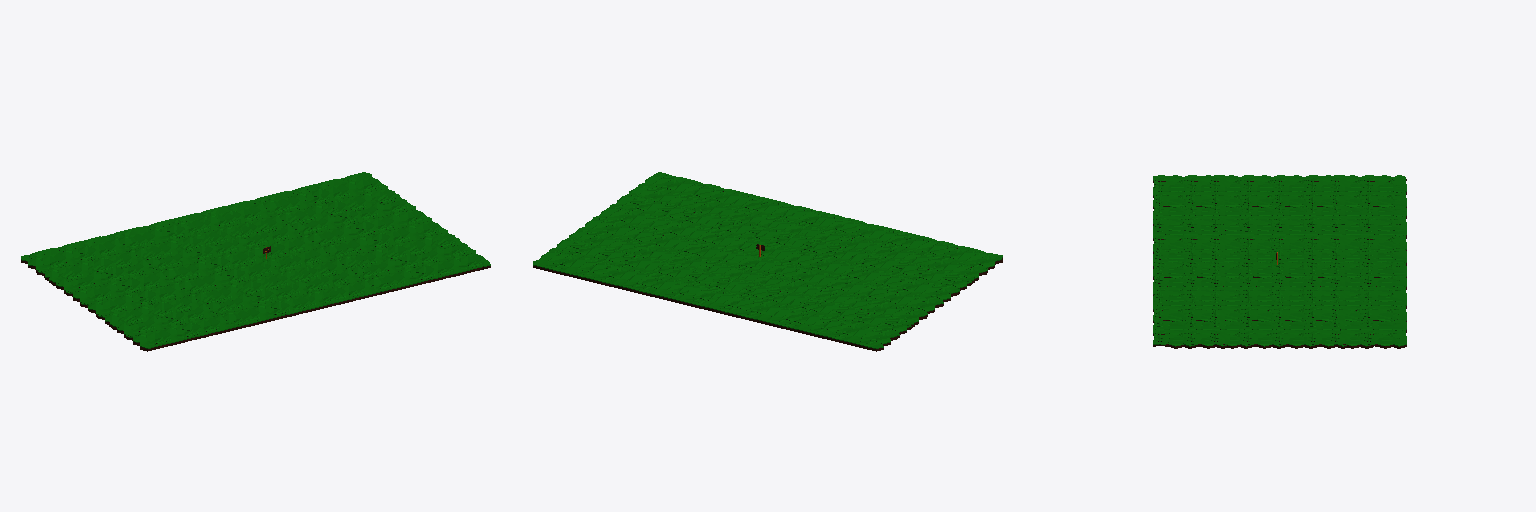
3 renders of one model, left to right at view 1: azimuth 30°, elevation 25°; view 2: azimuth 150°, elevation 25°; view 3: azimuth 270°, elevation 25°, orthographic.
Parts seen in each view (by area): view 1: plateforme.002; view 2: plateforme.002; view 3: plateforme.002.
Part boxes in pixels (left/top/right/bottom): plateforme.002: left=21, top=172, right=490, bottom=351; plateforme.002: left=533, top=172, right=1002, bottom=351; plateforme.002: left=1153, top=175, right=1406, bottom=348.
Bounding box in the file's own units: 41.19 × 1.77 × 25.77.